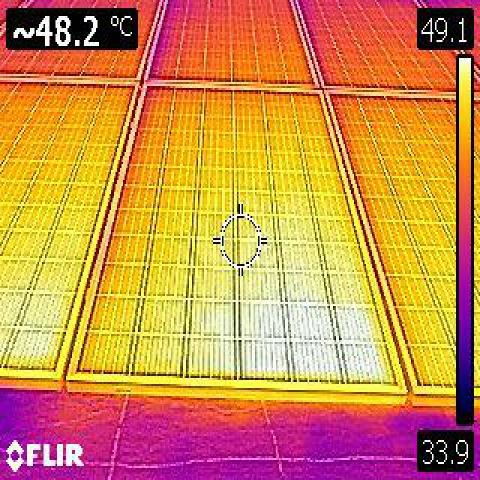fault: (224, 278, 383, 382)
